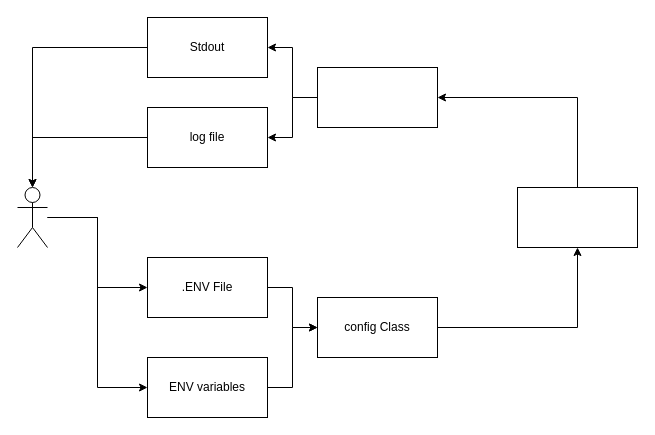
Image size: 655x435. Some labels were removed from this diagram. The shapes that lost their labels are listed below. From the top down, each one's centre as x and y in pixels, then its label:
At (x=377, y=97): "logger Class".
At (x=32, y=217): "Actor".
At (x=577, y=217): "APP".
